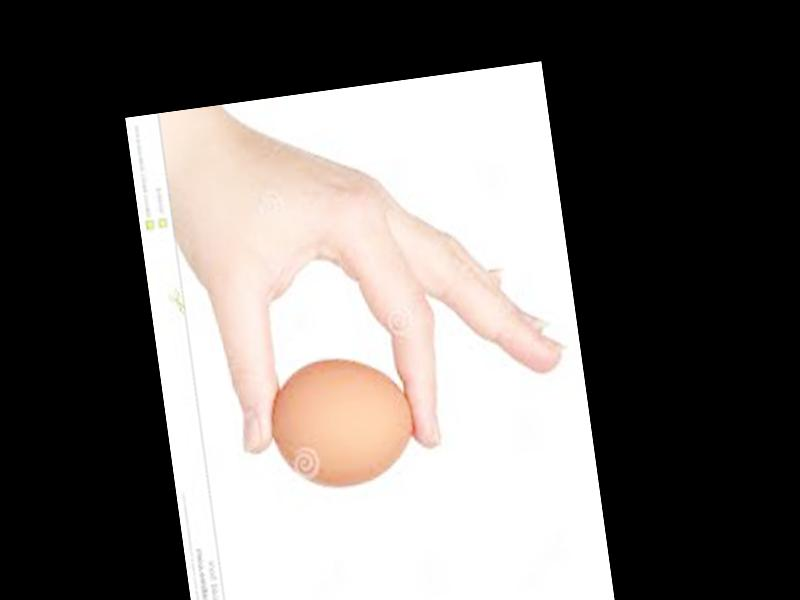Eggs: (262, 346, 421, 497)
